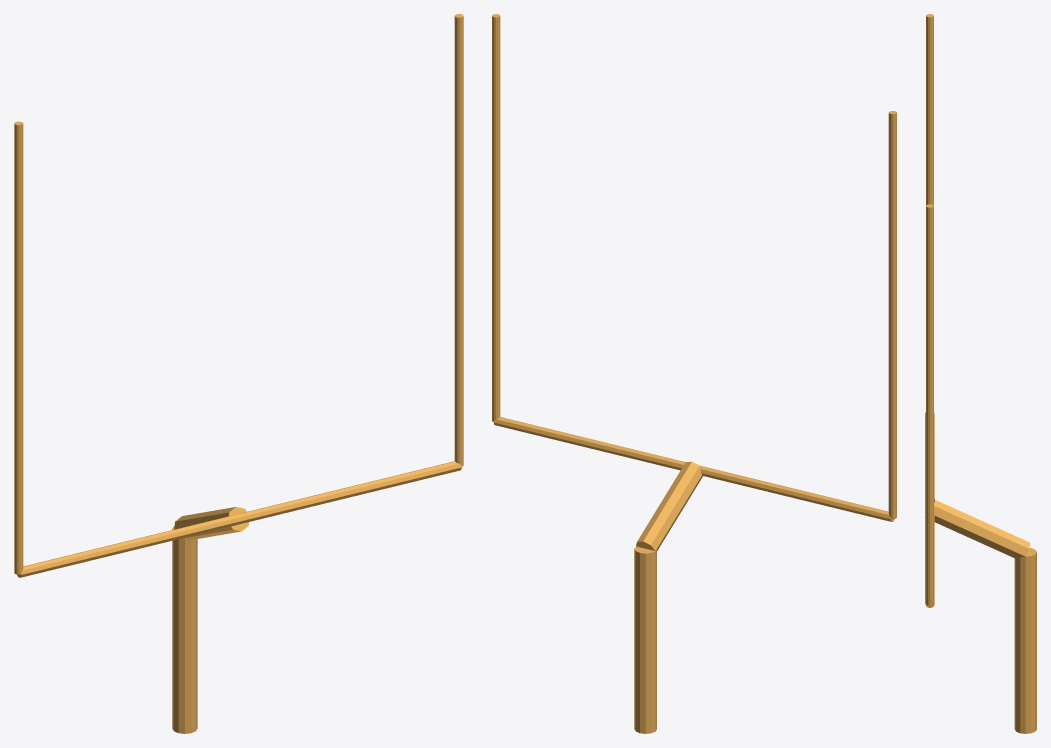
Rendered from american-football-stadium-kit-gooseneck-goalpost-a121985b__22332.glb.
3 views of the same model, side by side, from view 1: azimuth 30°, elevation 25°; view 2: azimuth 150°, elevation 25°; view 3: azimuth 270°, elevation 25° (orthographic). The views are drawn at different scales.
Parts seen in each view (by area): view 1: gooseneck-goalpost; view 2: gooseneck-goalpost; view 3: gooseneck-goalpost.
Boxes of the visible parts, <box> form: gooseneck-goalpost: <box>14,14,463,733</box>; gooseneck-goalpost: <box>492,14,896,733</box>; gooseneck-goalpost: <box>925,14,1036,733</box>.
Bounding box in the file's own units: 5.74 × 8.55 × 1.4.
